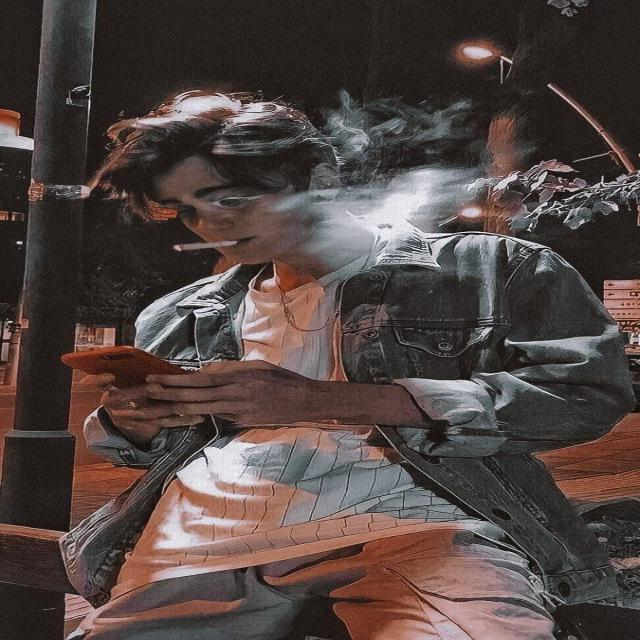cigarette: (156, 230, 252, 264)
